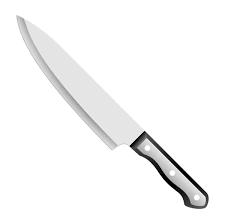Knife: (15, 14, 209, 209)
